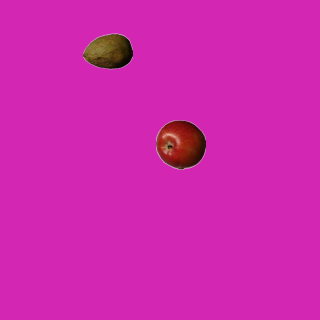Apple Braeburn: (155, 119, 205, 169)
Papaya: (82, 26, 132, 76)
